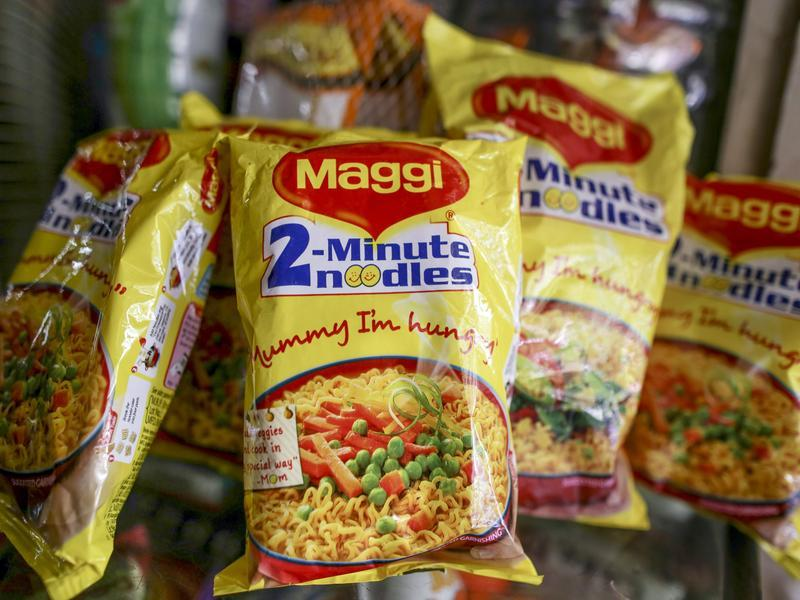maggi-small: (227, 130, 539, 584), (4, 123, 220, 581)
